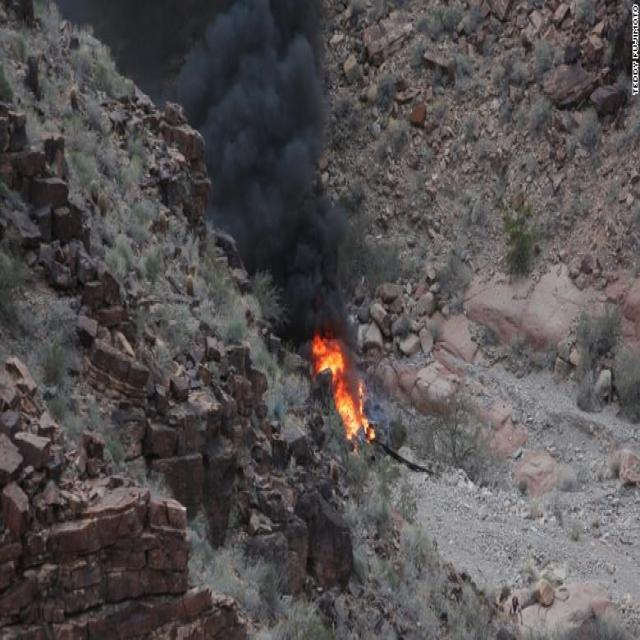Fire: (312, 333, 376, 441)
Smoke: (176, 0, 324, 184), (206, 186, 382, 330)
